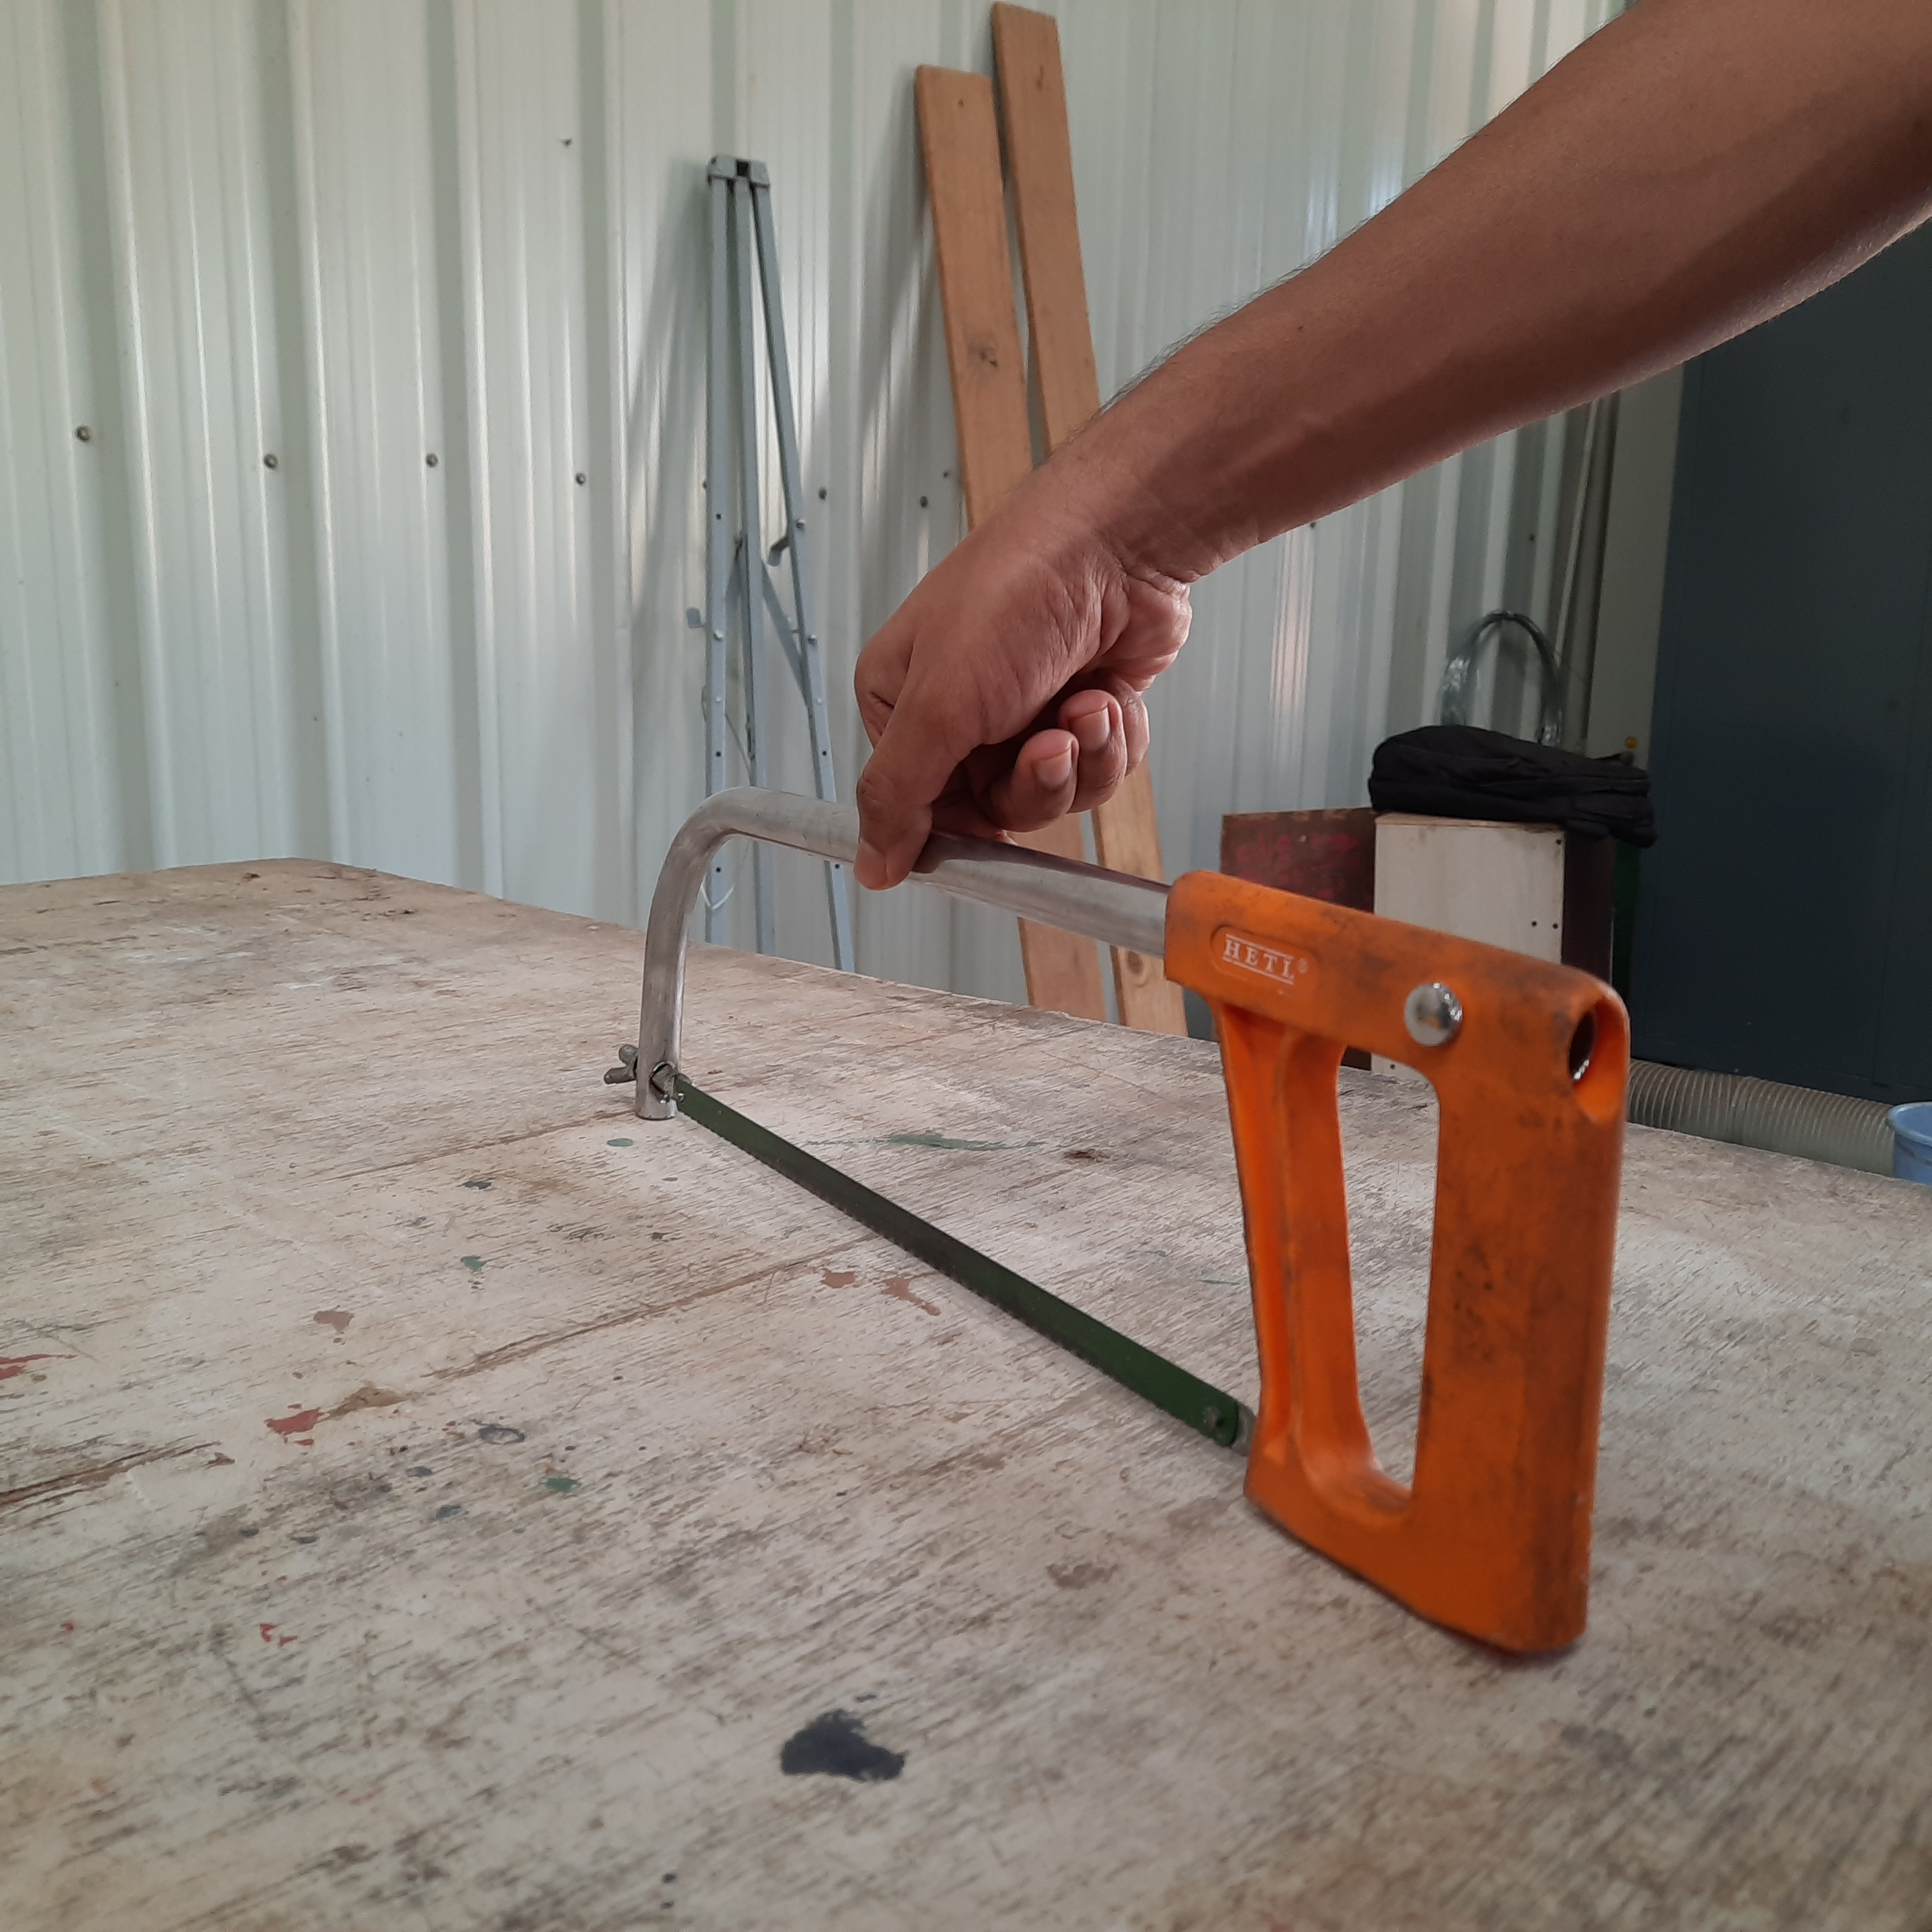Hexaframe: (607, 778, 1642, 1667)
